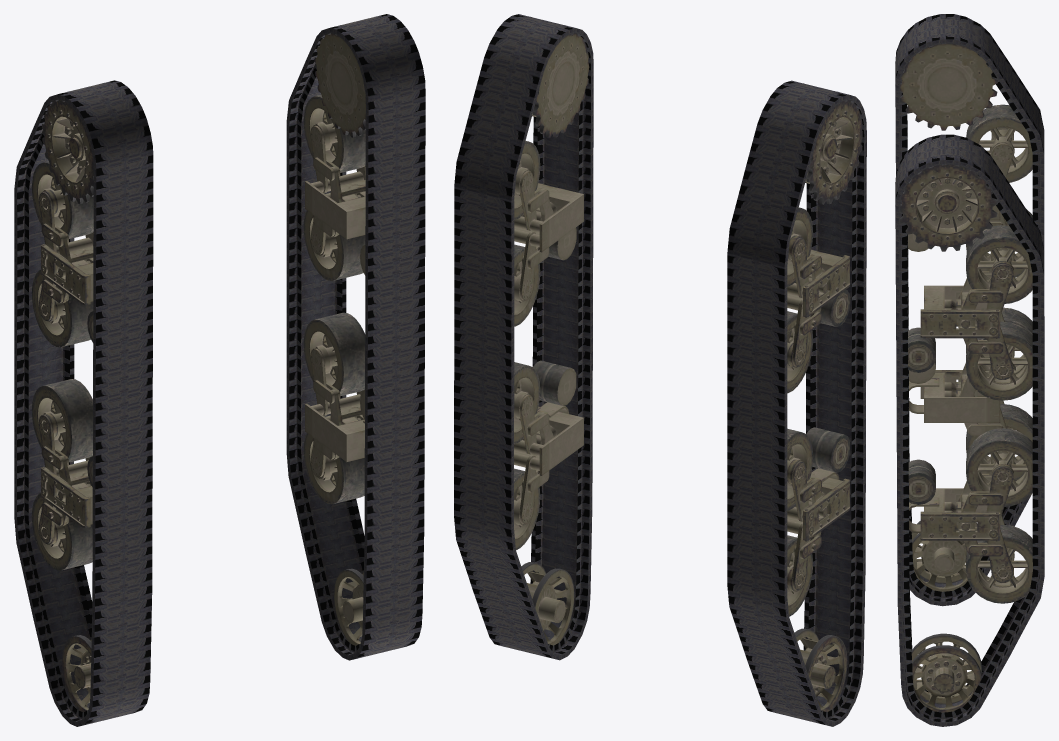
Rendered from Chassis.glb.
The picture shows the model from 3 angles, left to right: view 1: azimuth 30°, elevation 25°; view 2: azimuth 150°, elevation 25°; view 3: azimuth 270°, elevation 25°; orthographic projection. The views are drawn at different scales.
Visible parts, largest first — view 1: set_1_group_0, set_0_group_0, set_3_group_0, set_2_group_0; view 2: set_1_group_0, set_0_group_0, set_3_group_0, set_2_group_0; view 3: set_3_group_0, set_0_group_0, set_2_group_0, set_1_group_0.
Part boxes in pixels (x1,y1,x2,y2): set_1_group_0: [14, 80, 153, 726]; set_0_group_0: [286, 14, 425, 660]; set_3_group_0: [303, 33, 365, 645]; set_2_group_0: [31, 99, 93, 712]; set_1_group_0: [727, 80, 866, 726]; set_0_group_0: [454, 14, 593, 660]; set_3_group_0: [514, 33, 589, 645]; set_2_group_0: [787, 100, 862, 711]; set_3_group_0: [900, 164, 1032, 712]; set_0_group_0: [895, 134, 1044, 726]; set_2_group_0: [900, 43, 1032, 591]; set_1_group_0: [895, 14, 1044, 606].
Size of the model in its own units: 2.64 by 4.76 by 1.14.
4 materials, 4 textured.
